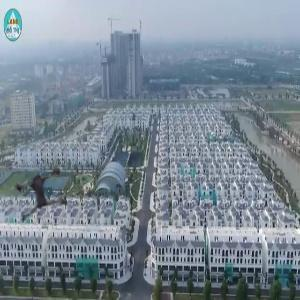drone: (1, 151, 79, 229)
